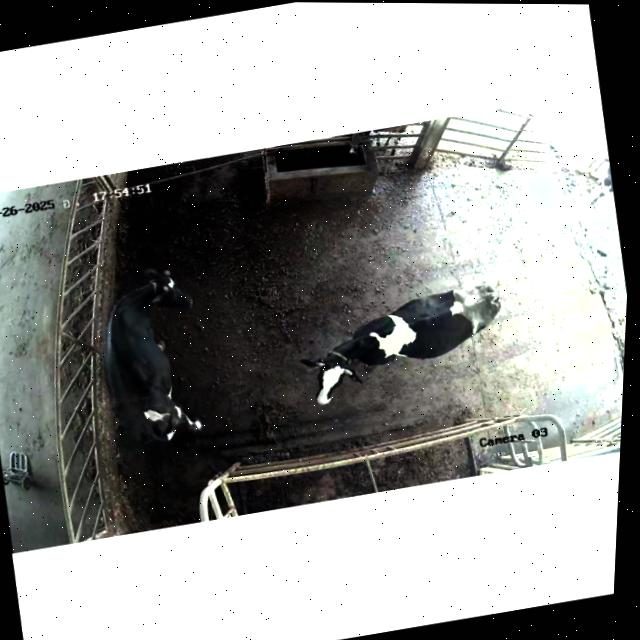stand: (261, 236, 537, 421), (74, 245, 241, 464)
